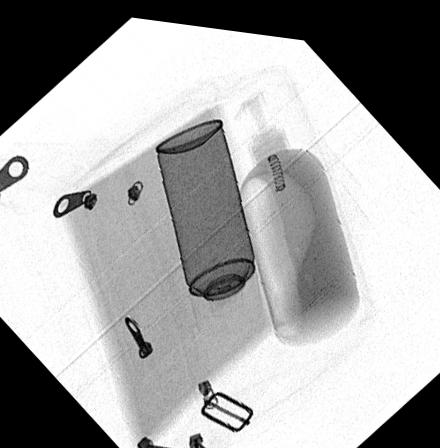Sprayer: (154, 112, 264, 323)
